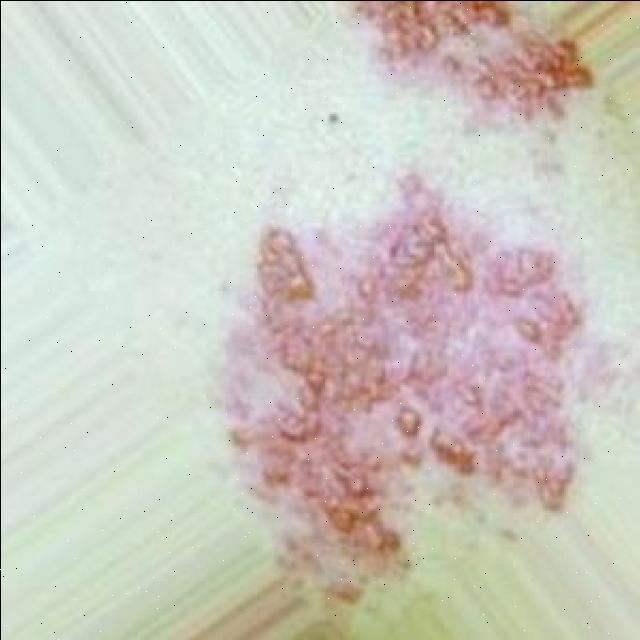Shingles: (226, 176, 590, 590), (344, 2, 596, 130)
